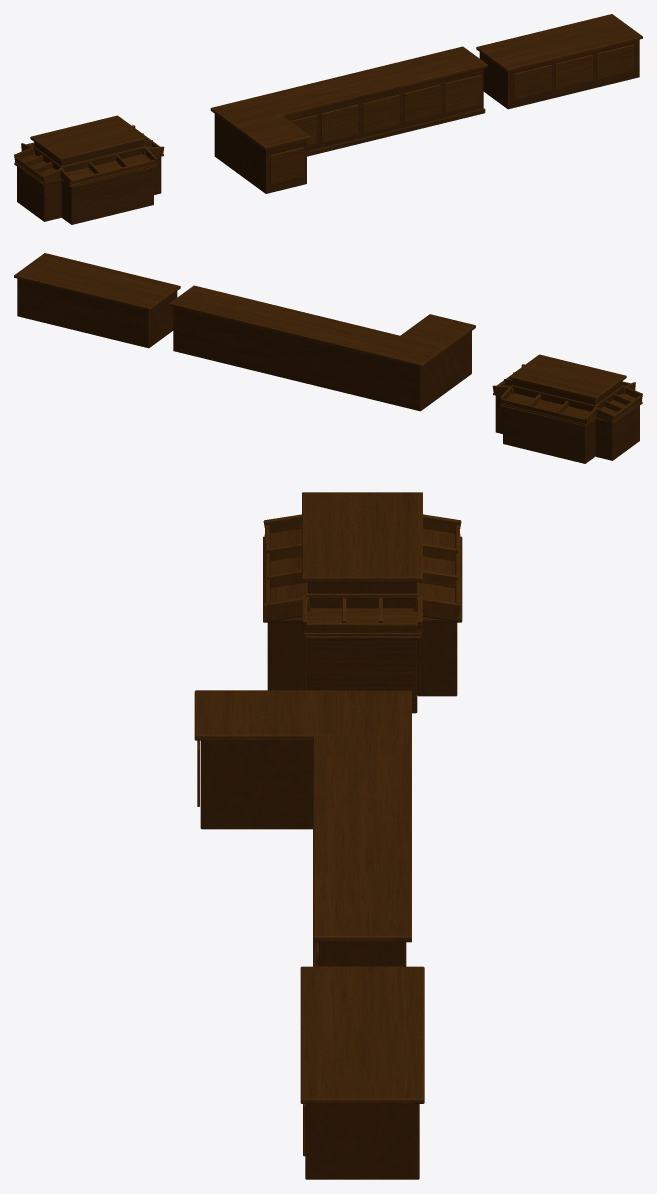
Rendered from shop-furniture.glb.
3 renders of one model, top to bottom at view 1: azimuth 30°, elevation 25°; view 2: azimuth 150°, elevation 25°; view 3: azimuth 270°, elevation 25°, orthographic. The views are drawn at different scales.
Visible parts, largest first — view 1: top, top.001, body, plinth.001, body.001, cap, ret, rettop, plinth.003, core, panel.003, panel.005 (+11 smaller); view 2: body, top, body.001, top.001, plinth, cap, rettop, plinth.003, ret, core, slab, lip (+1 smaller); view 3: top, top.001, cap, ret, body.001, rettop, plinth.002, plinth, plinth.001, core, body, slab.002 (+3 smaller).
Part boxes in pixels (<box>): top: <box>210,46,487,127</box>; top.001: <box>476,14,642,71</box>; body: <box>214,68,483,171</box>; plinth.001: <box>61,168,153,224</box>; body.001: <box>479,39,639,109</box>; cap: <box>30,115,147,160</box>; ret: <box>232,127,306,193</box>; rettop: <box>229,110,310,149</box>; plinth.003: <box>17,167,61,221</box>; core: <box>34,141,143,217</box>; panel.003: <box>362,95,399,132</box>; panel.005: <box>445,74,481,112</box>; body: <box>173,307,442,411</box>; top: <box>169,285,445,367</box>; body.001: <box>17,278,177,348</box>; top.001: <box>14,253,180,310</box>; plinth: <box>503,407,595,463</box>; cap: <box>509,354,626,399</box>; rettop: <box>394,314,475,353</box>; plinth.003: <box>595,406,639,460</box>; ret: <box>439,331,471,397</box>; core: <box>513,380,622,456</box>; slab: <box>500,393,590,426</box>; lip: <box>500,398,586,425</box>; top: <box>313,690,411,942</box>; top.001: <box>300,966,424,1103</box>; cap: <box>302,492,422,582</box>; ret: <box>200,740,312,829</box>; body.001: <box>305,1104,419,1179</box>; rettop: <box>194,690,338,740</box>; plinth.002: <box>307,640,417,713</box>; plinth: <box>417,622,457,696</box>; plinth.001: <box>267,622,307,690</box>; core: <box>307,582,417,608</box>; body: <box>318,942,406,966</box>; slab.002: <box>304,608,421,638</box>.
Bounding box in the file's own units: 14.52 × 1.41 × 2.81.
1 material, 1 textured.
